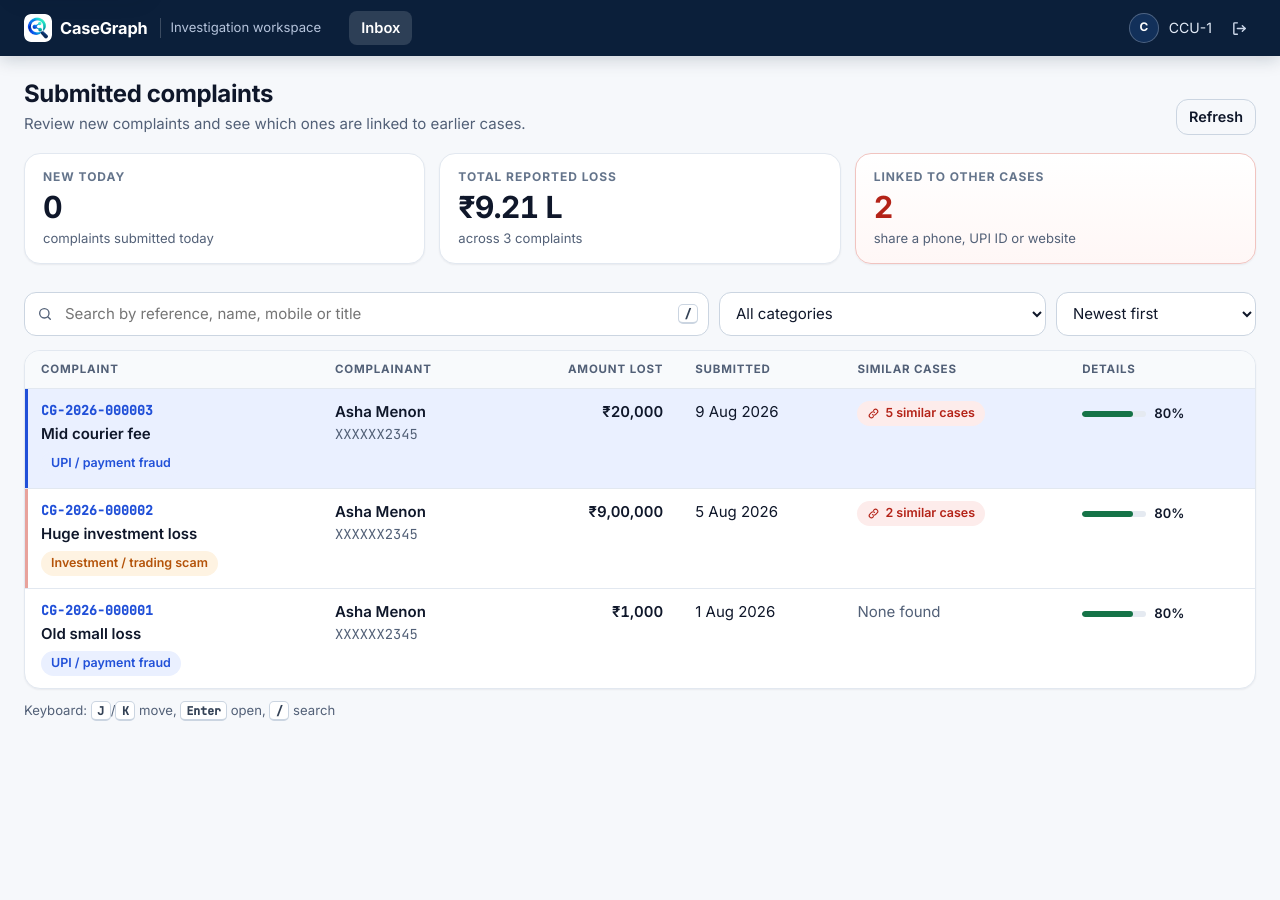
Test case: inbox › filters by search and category, and sorts
Expected: the link "Old small loss" is shown, top-left (41, 624), bottom-right (141, 643)
Select "Highest loss" in the dropdown named "Sort by". click: [1156, 314]
box: top-left (1056, 292), bottom-right (1256, 336)
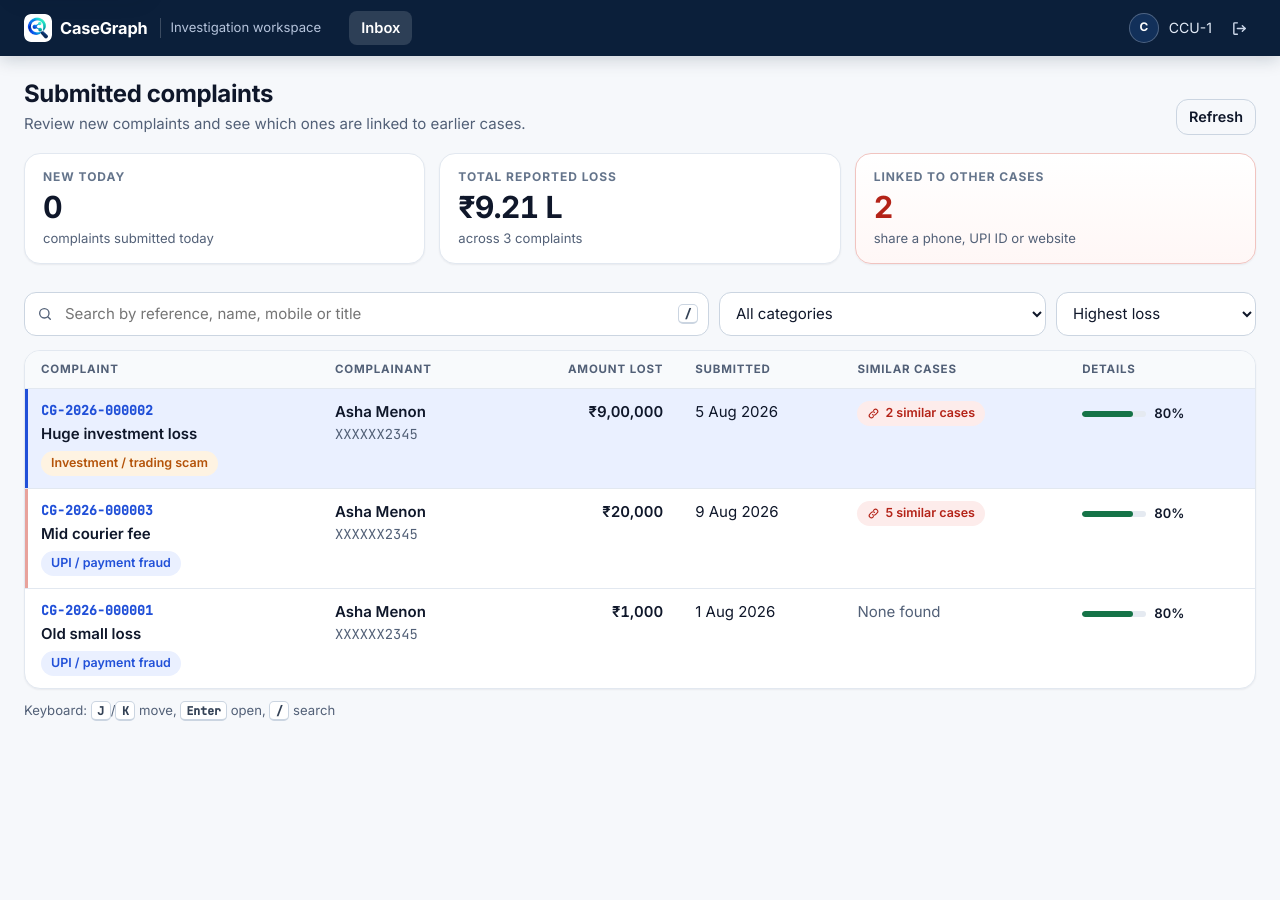
Select "Most similar cases" in the dropdown named "Sort by". click: [1156, 314]
box: top-left (1056, 292), bottom-right (1256, 336)
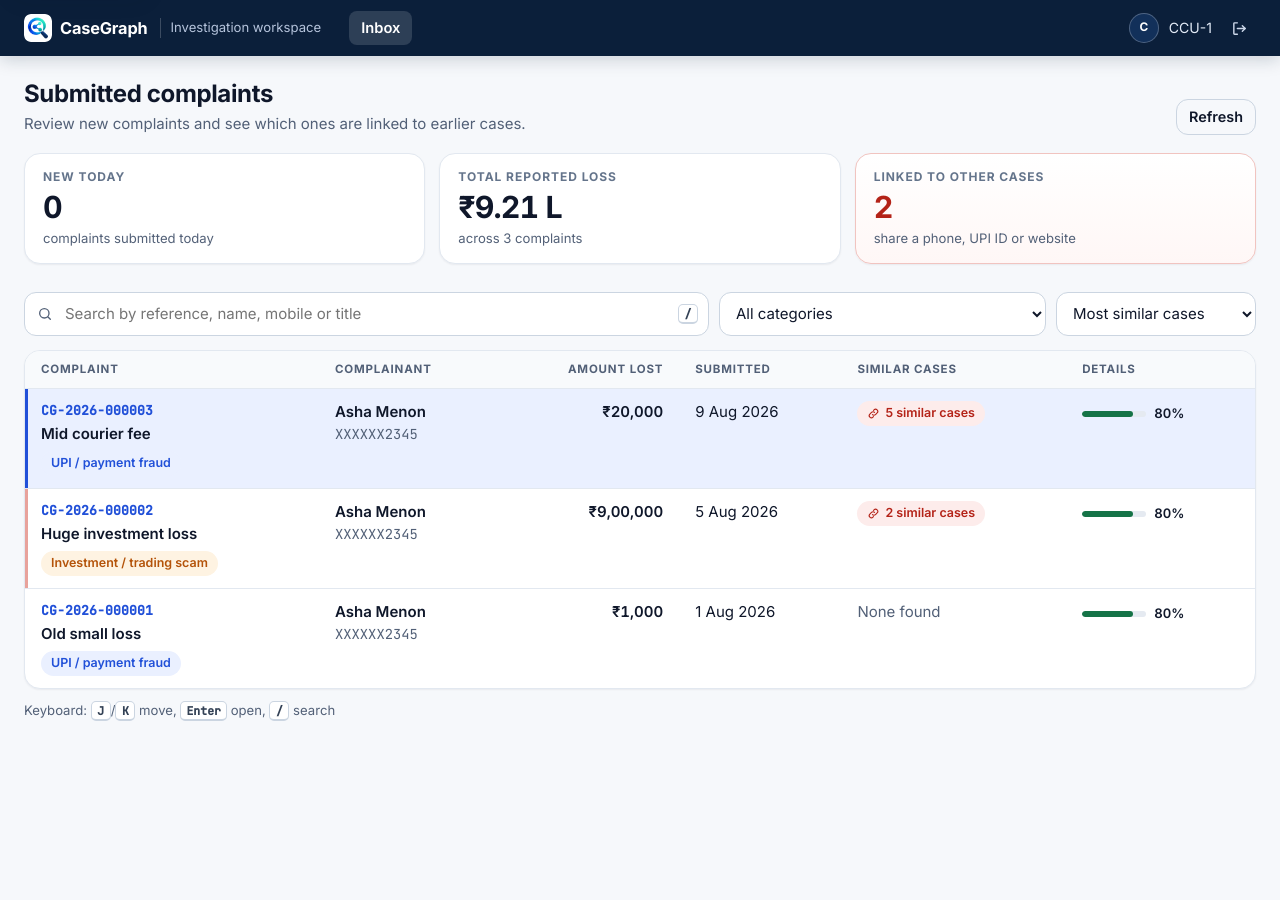
Expected: the link "Mid courier fee" is shown, top-left (41, 424), bottom-right (151, 443)
Select "Investment / trading scam" in the dropdown named "Category". click: [882, 314]
box: top-left (719, 292), bottom-right (1046, 336)
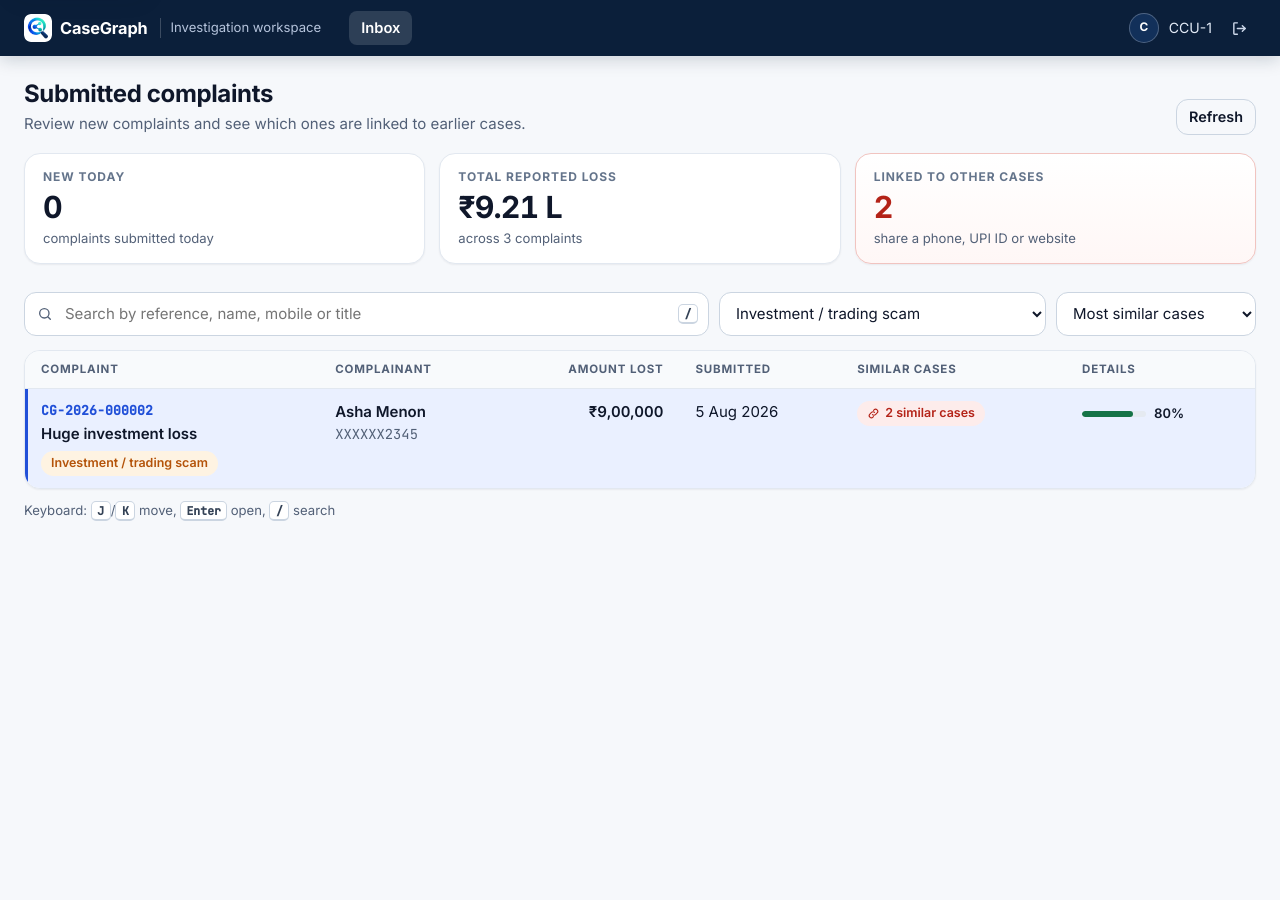
Select "All categories" in the dropdown named "Category". click: [882, 314]
box: top-left (719, 292), bottom-right (1046, 336)
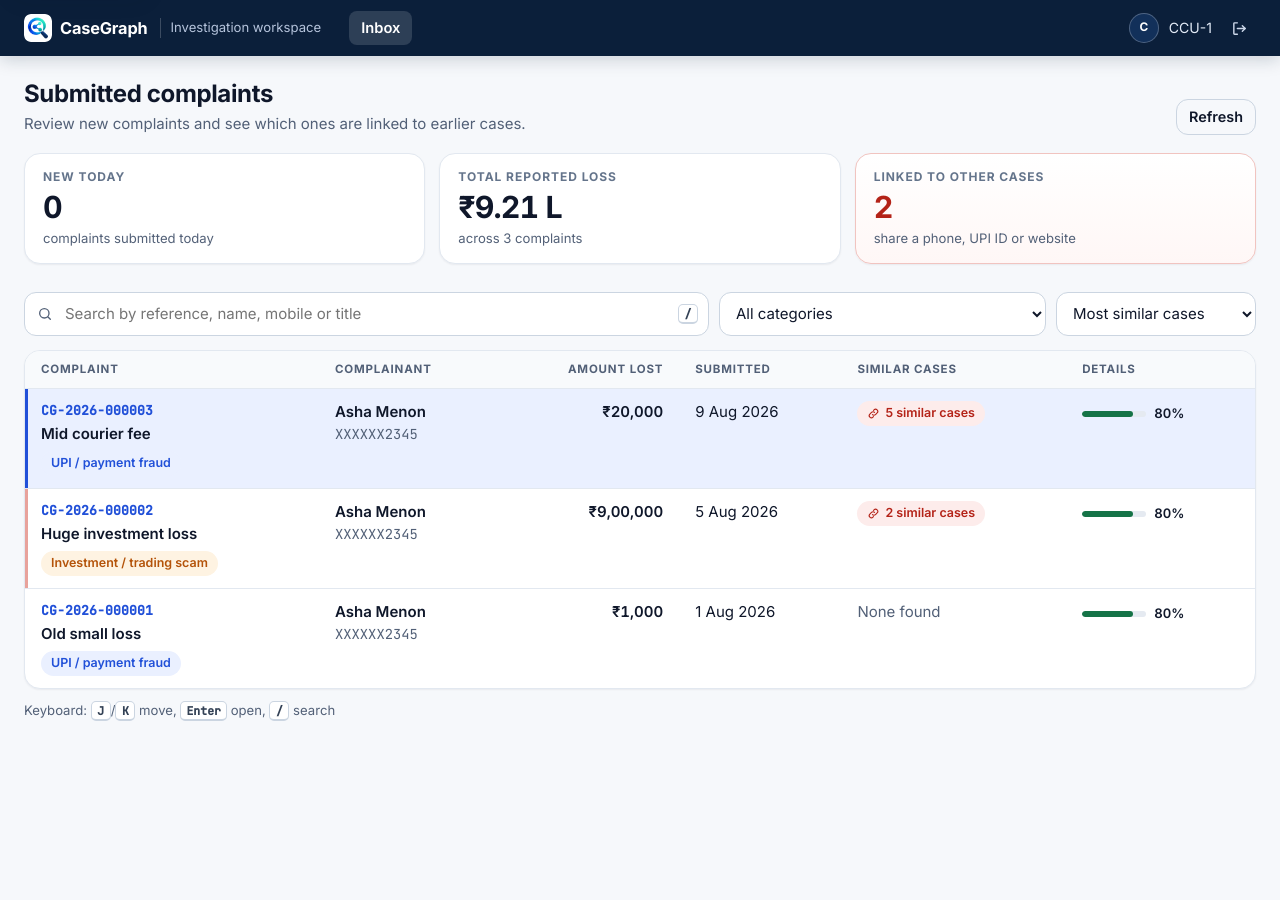
Type "000001" into the search field named "Search complaints". click: [366, 314]
box: top-left (24, 292), bottom-right (709, 336)
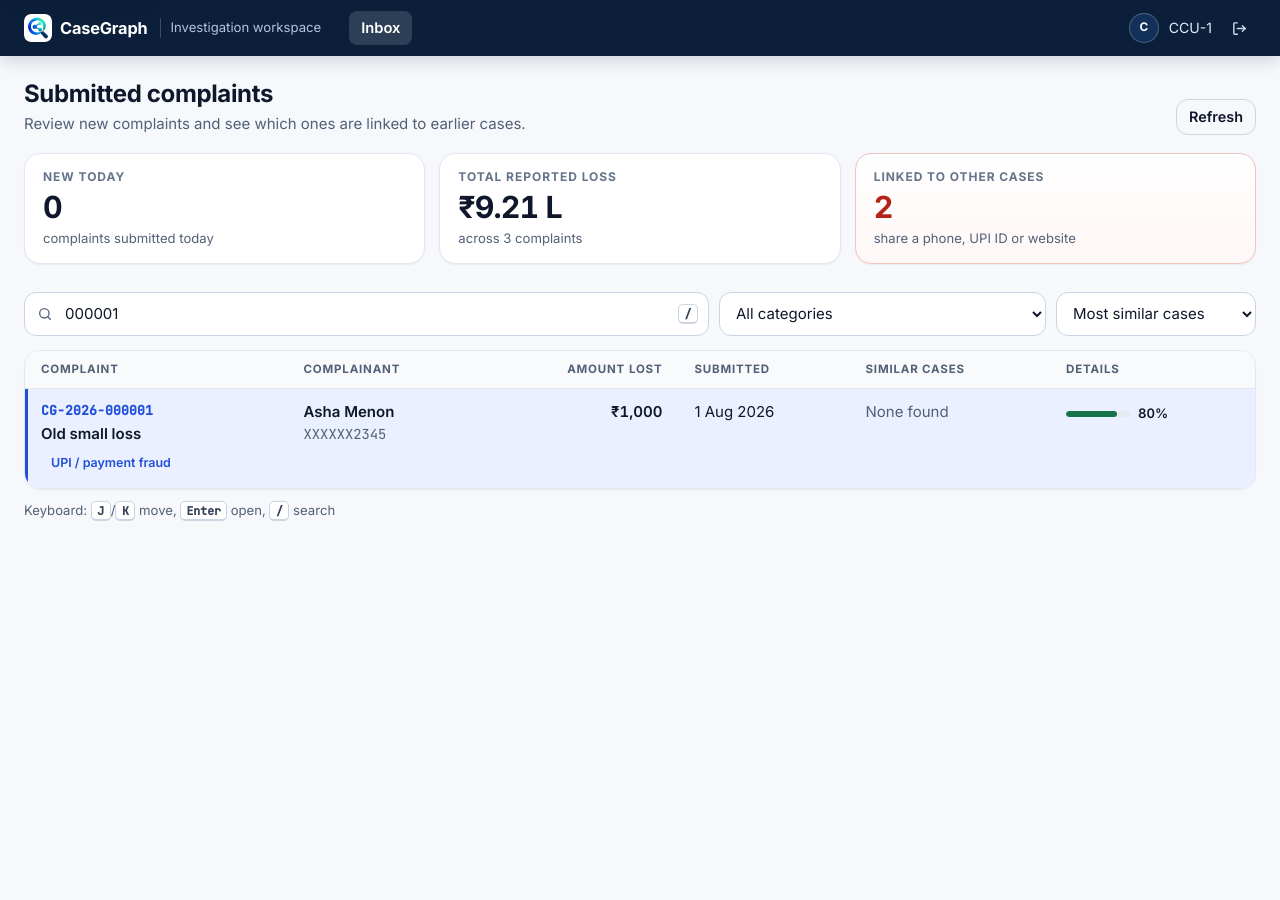
Replace the text in the search field named "Search complaints" with "zzz". click: [366, 314]
box: top-left (24, 292), bottom-right (709, 336)
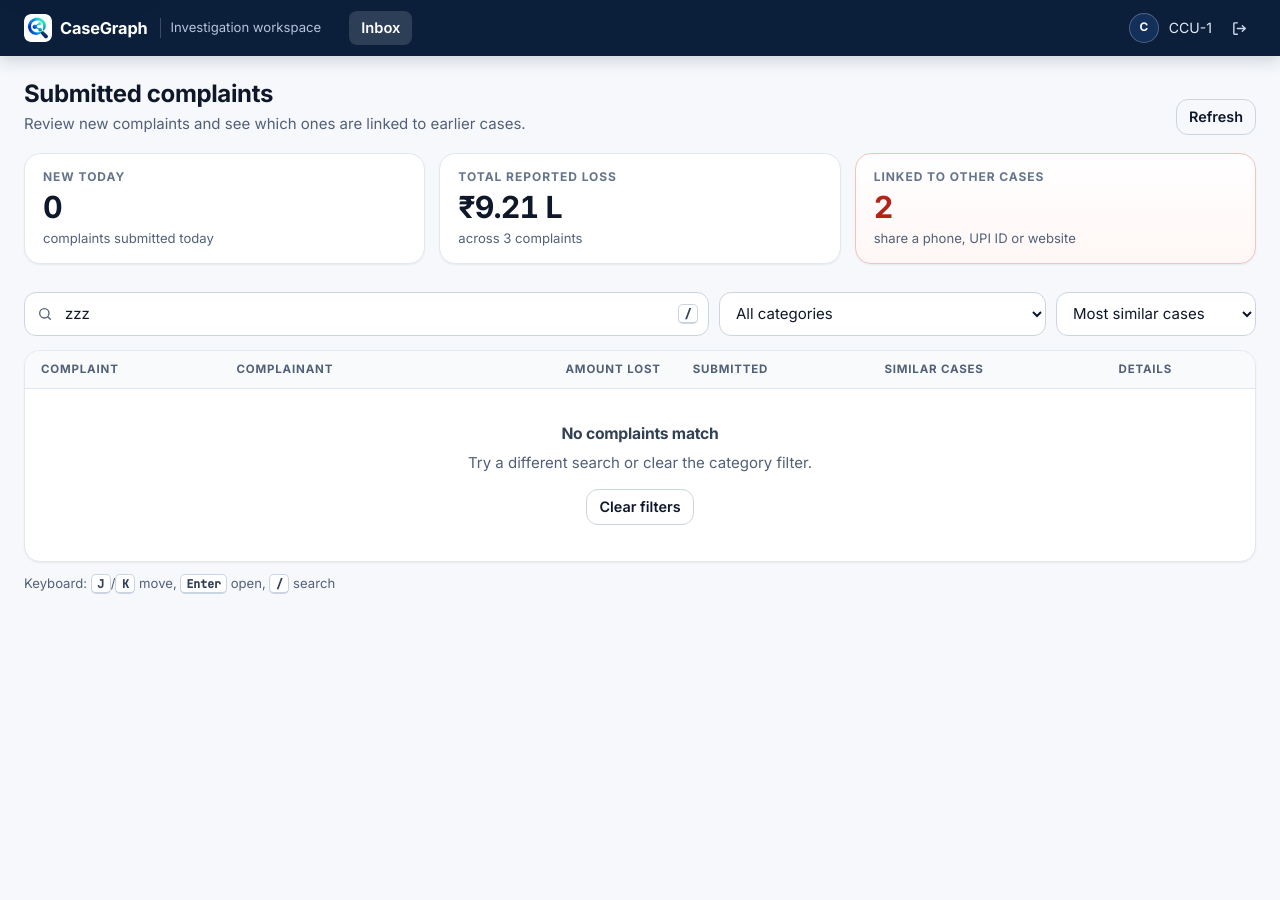
Expected: the heading "No complaints match" is shown, top-left (561, 425), bottom-right (719, 444)
